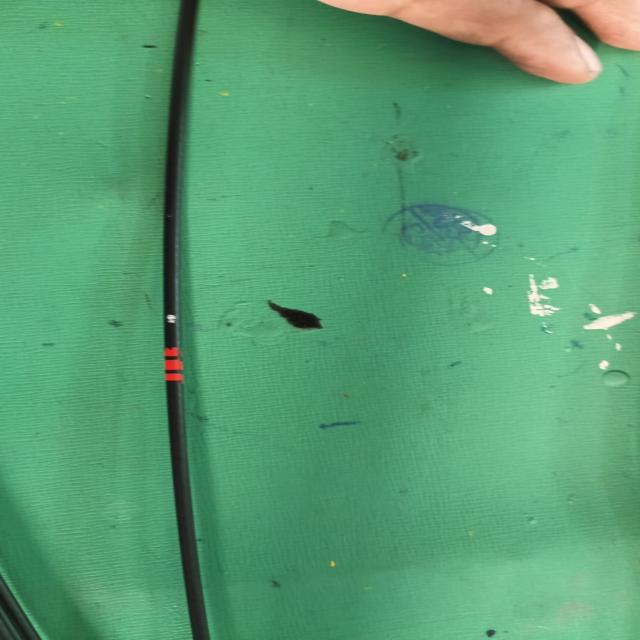red: (163, 348, 184, 382)
